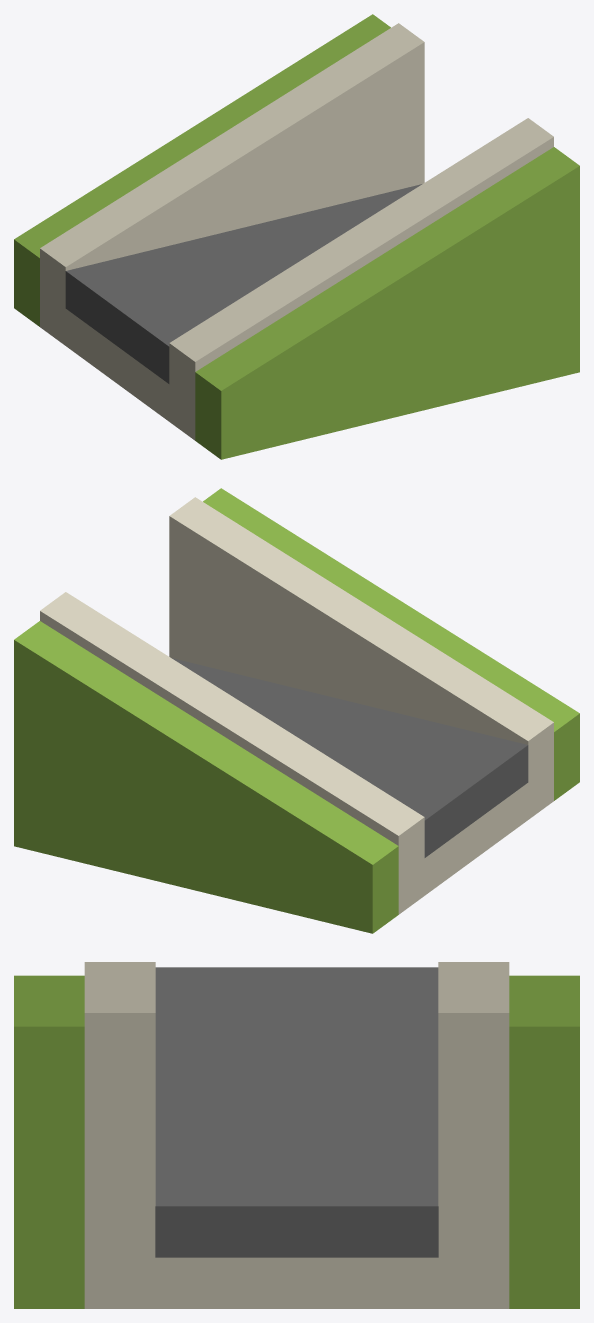
The model's file is tile205.fbx.
The picture shows the model from 3 angles, top to bottom: view 1: azimuth 30°, elevation 25°; view 2: azimuth 150°, elevation 25°; view 3: azimuth 270°, elevation 25°; orthographic projection. The views are drawn at different scales.
Parts seen in each view (by area): view 1: tile205; view 2: tile205; view 3: tile205.
Part boxes in pixels (x1,y1,x2,y2): tile205: (14, 14, 579, 459); tile205: (14, 488, 579, 933); tile205: (14, 962, 579, 1308).
Bounding box in the file's own units: 10 × 5.77 × 10.
